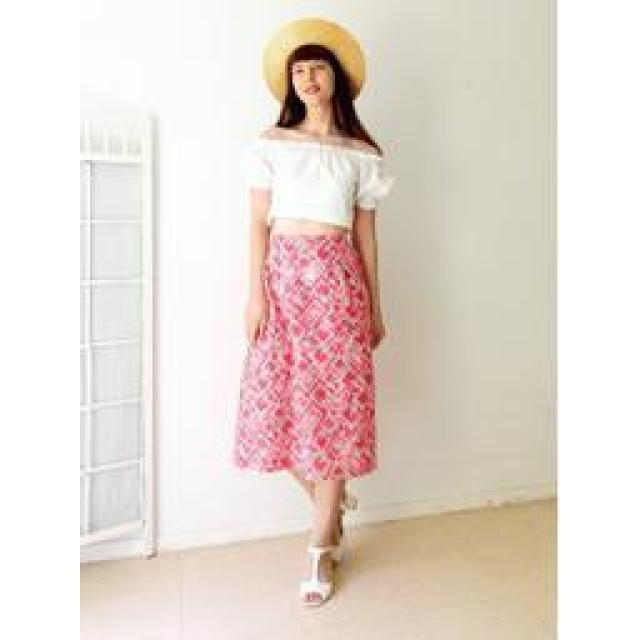shirt: (244, 137, 394, 225)
skirt: (232, 230, 376, 480)
